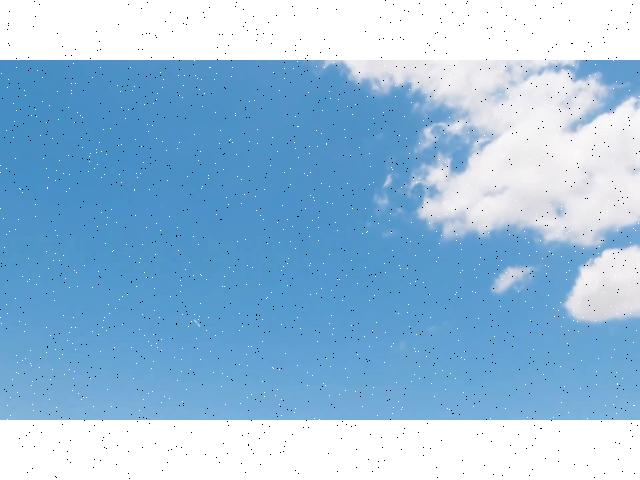Anti-Drone: (186, 311, 210, 332)
